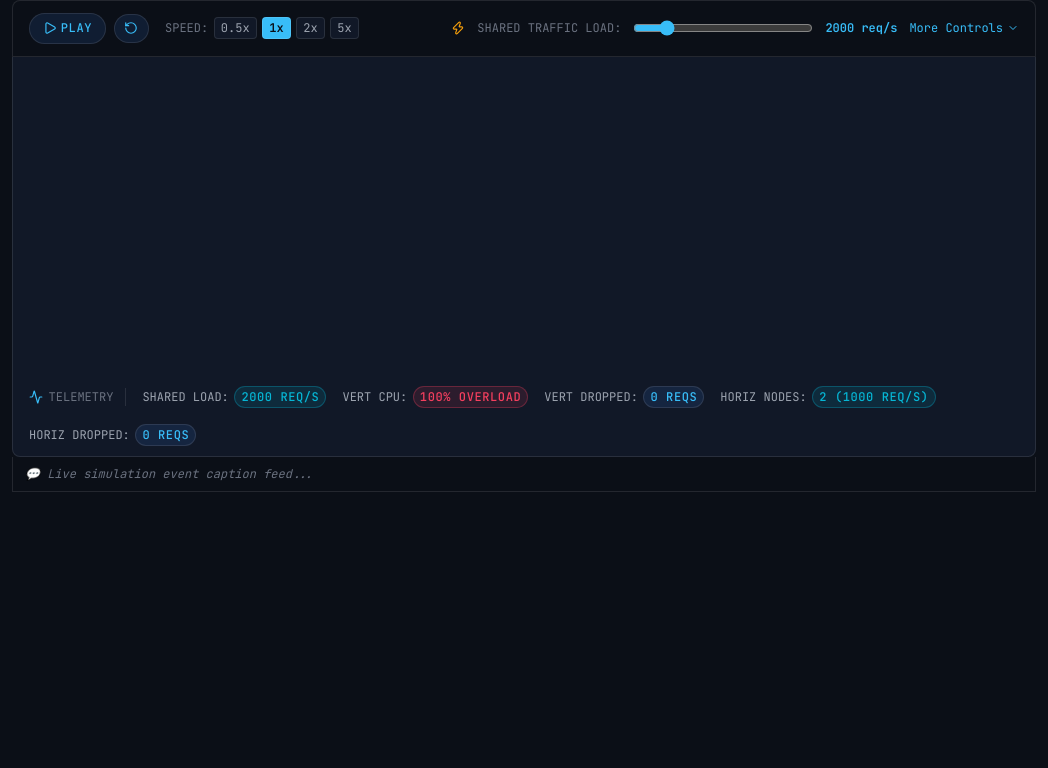
Test case: ScalingVisualizer (Flagship §7.2) › allows scaling up vertical machine hardware
// Expand controls
Step 1. Click the button "More Controls" → [964, 28], box [909,20,1019,36]
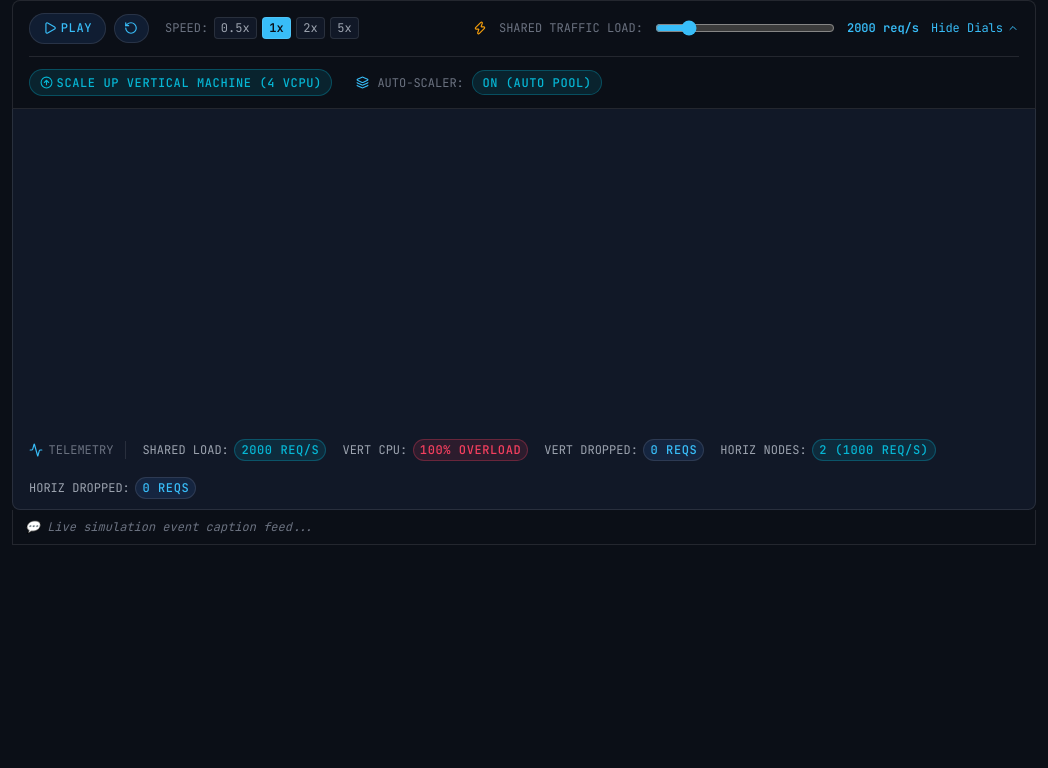
Step 2. Click the button "Scale Up Vertical Machine (4 vCPU)" → [181, 83], box [29,69,332,96]
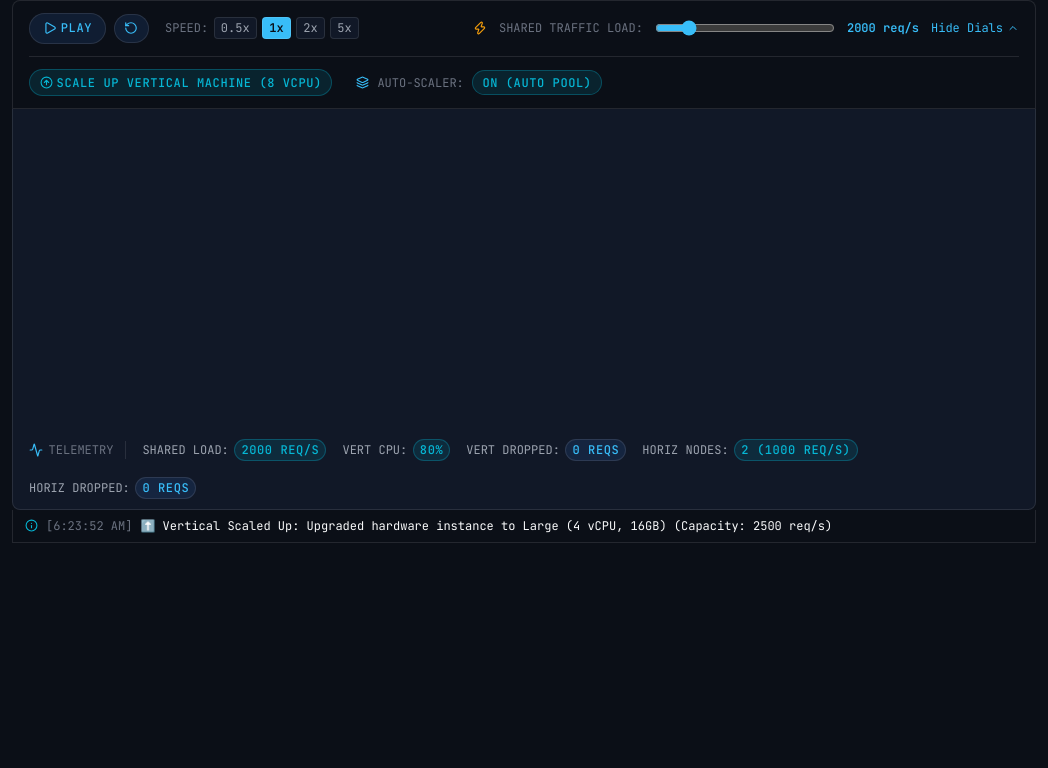
Check: the button "Scale Up Vertical Machine (8 vCPU)" is shown, box [29,69,332,96]
